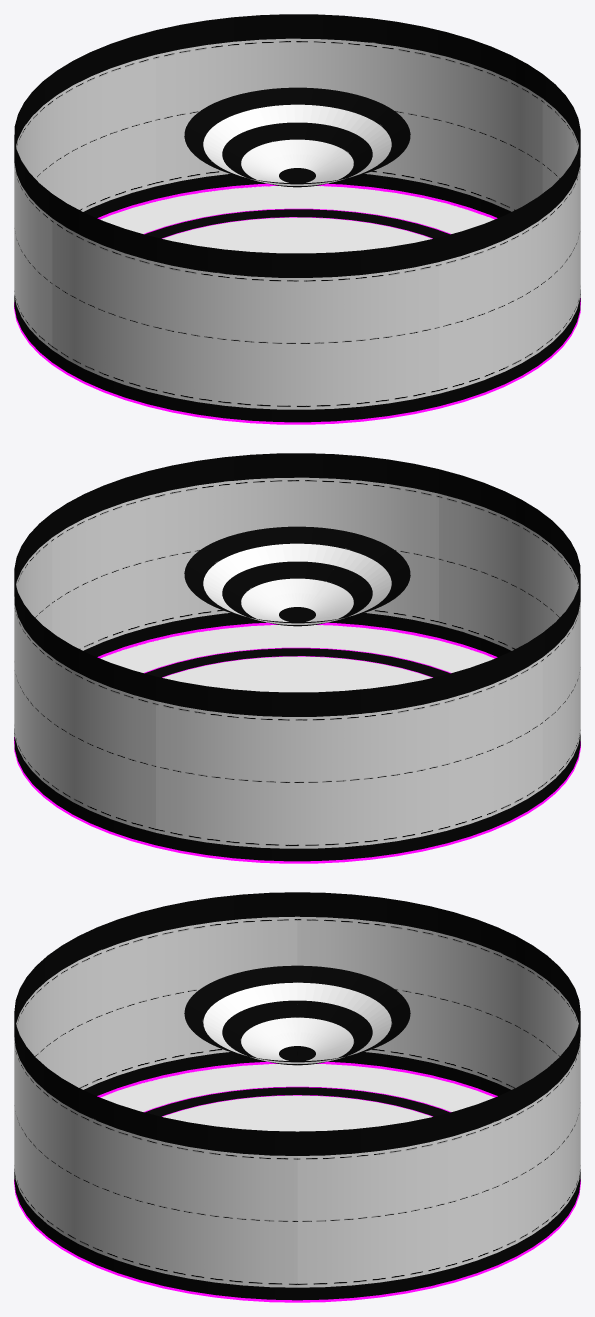
Rendered from StructureBase.fbx.
3 views of the same model, one above another, from view 1: azimuth 30°, elevation 25°; view 2: azimuth 150°, elevation 25°; view 3: azimuth 270°, elevation 25° (orthographic).
Visible parts, largest first — view 1: StructureBase; view 2: StructureBase; view 3: StructureBase.
Part boxes in pixels (x1,y1,x2,y2): StructureBase: (14, 14, 580, 424); StructureBase: (14, 453, 580, 863); StructureBase: (14, 892, 580, 1302).
Bounding box in the file's own units: 2646 × 881 × 2646.
